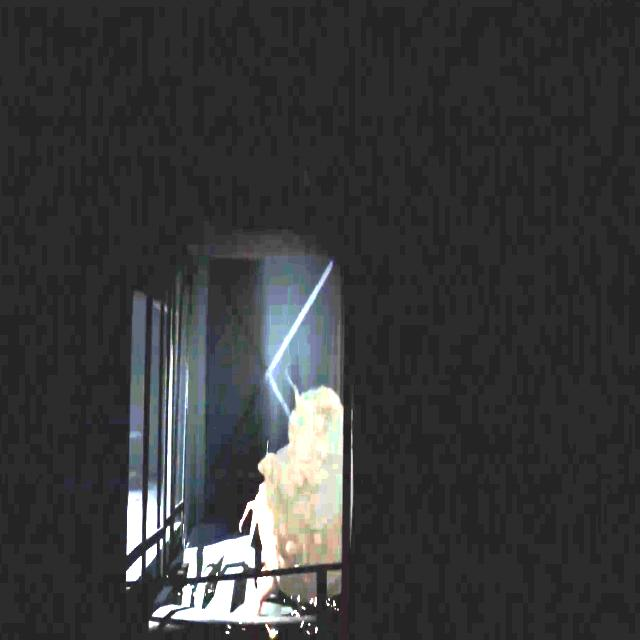blob: (239, 388, 343, 617)
